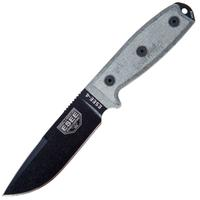knife: (3, 6, 194, 198)
